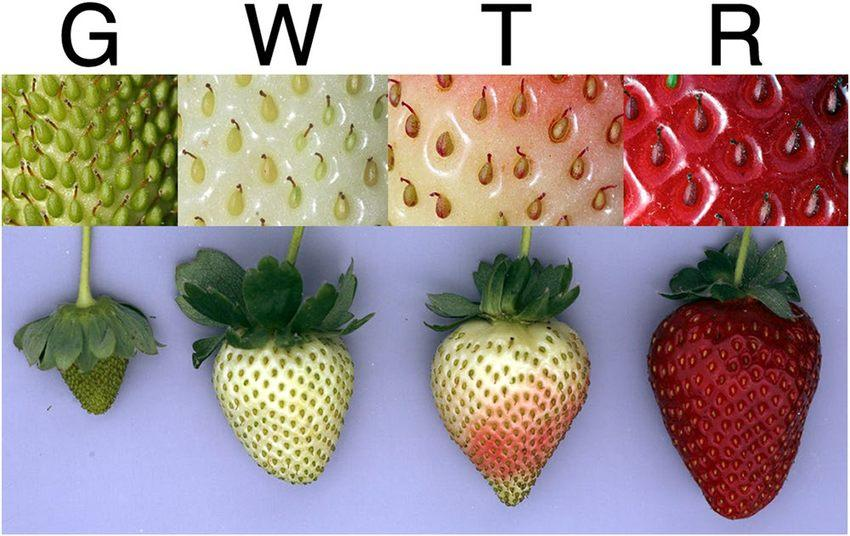straw-ripe: (647, 294, 822, 519)
straw-unripe: (433, 308, 591, 503), (216, 323, 353, 486), (54, 299, 133, 413)
